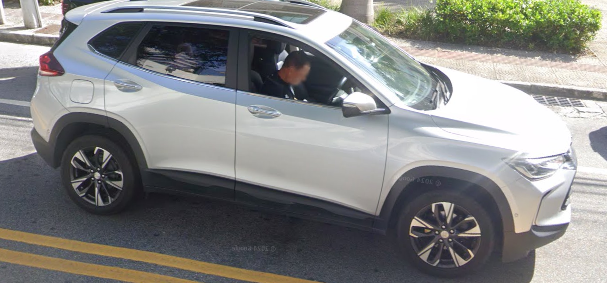car: (31, 2, 578, 277)
